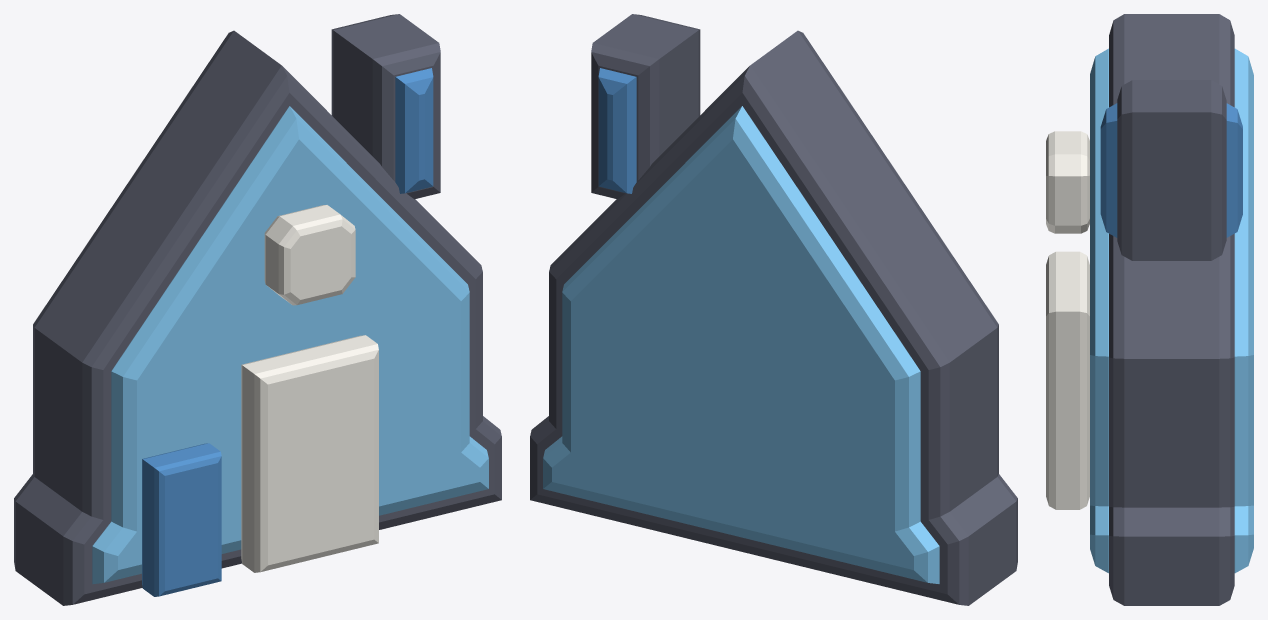
Rendered from game-ui-icon-library-home-marker-72dd3220__19042.glb.
The picture shows the model from 3 angles, left to right: view 1: azimuth 30°, elevation 25°; view 2: azimuth 150°, elevation 25°; view 3: azimuth 270°, elevation 25°; orthographic projection.
Visible parts, largest first — view 1: home-marker; view 2: home-marker; view 3: home-marker.
Part boxes in pixels (x1,y1,x2,y2): home-marker: [14, 14, 501, 605]; home-marker: [530, 14, 1017, 605]; home-marker: [1046, 14, 1253, 605].
Size of the model in its own units: 0.8825 by 0.94 by 0.3645.
